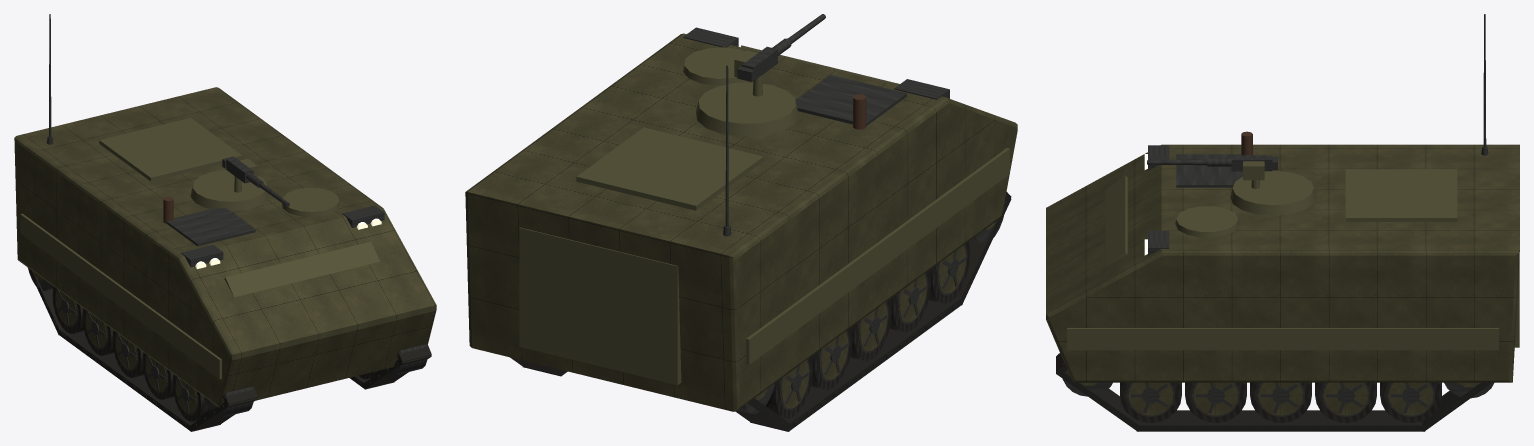
The model's file is m113_apc_lod0.glb.
3 renders of one model, left to right at view 1: azimuth 30°, elevation 25°; view 2: azimuth 150°, elevation 25°; view 3: azimuth 270°, elevation 25°, orthographic. The views are drawn at different scales.
Visible parts, largest first — view 1: M113_APC; view 2: M113_APC; view 3: M113_APC.
Part boxes in pixels (x1,y1,x2,y2): M113_APC: (14,14,436,431); M113_APC: (465,14,1017,431); M113_APC: (1046,14,1519,431).
Size of the model in its own units: 2.72 by 3.64 by 4.88.
7 materials, 3 textured.
